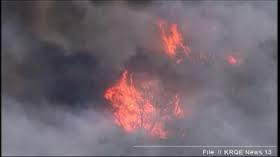fire: (103, 67, 184, 138), (157, 19, 190, 58)
